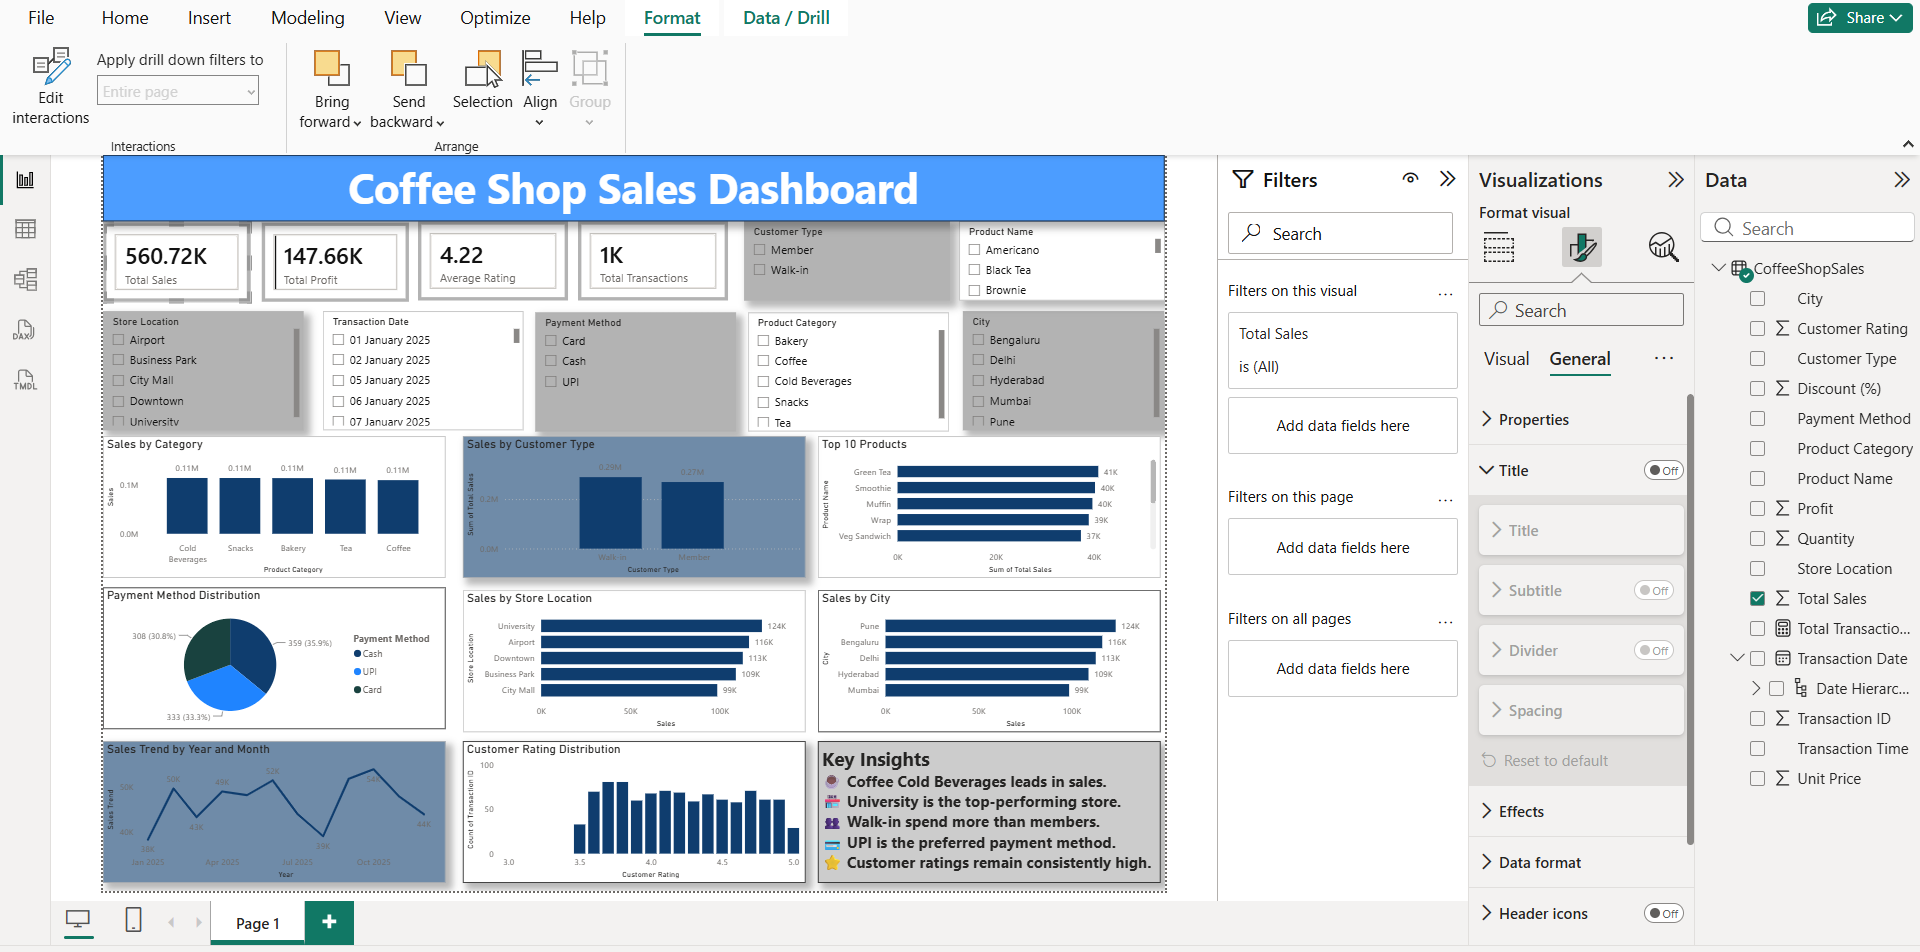

The dashboard page shown, as its layout file describes it:
{"tool":"powerbi","page":{"name":"Page 1","canvas":[1500,1040],"ordinal":0},"visuals":[{"type":"cardVisual","fields":{"Data":["Sum(CoffeeShopSales.Total Sales)"]},"box":[0,96,208,112],"z":0},{"type":"cardVisual","fields":{"Data":["Sum(CoffeeShopSales.Profit)"]},"box":[224,96,208,112],"z":1000},{"type":"cardVisual","fields":{"Data":["Avg(CoffeeShopSales.Customer Rating)"]},"box":[445,93.4,212.3,112.1],"z":2000},{"type":"cardVisual","fields":{"Data":["CoffeeShopSales.Total Transactions"]},"box":[670.9,93.4,212.3,112.1],"z":3000},{"type":"slicer","fields":{"Values":["CoffeeShopSales.City"]},"box":[1216,220.8,283.6,168.1],"z":4000},{"type":"slicer","fields":{"Values":["CoffeeShopSales.Store Location"]},"box":[0,220.8,283,168.1],"z":5000},{"type":"slicer","fields":{"Values":["CoffeeShopSales.Product Category"]},"box":[912,222.5,283.6,168.1],"z":6000},{"type":"slicer","fields":{"Values":["CoffeeShopSales.Customer Type"]},"box":[905.2,93.4,290.4,112.1],"z":7000},{"type":"slicer","fields":{"Values":["CoffeeShopSales.Payment Method"]},"box":[611.4,222.5,283,168.1],"z":8000},{"type":"slicer","fields":{"Values":["CoffeeShopSales.Product Name"]},"box":[1209.2,93.4,290.4,112.1],"z":9000},{"type":"slicer","fields":{"Values":["CoffeeShopSales.Transaction Date"]},"box":[310.8,220.8,283,168.1],"z":10000},{"type":"lineChart","fields":{"Y":["Sum(CoffeeShopSales.Total Sales)"],"Category":["CoffeeShopSales.Transaction Date.Variation.Date Hierarchy.Year","CoffeeShopSales.Transaction Date.Variation.Date Hierarchy.Month"]},"box":[0,829.2,484,200],"z":11000},{"type":"clusteredBarChart","fields":{"Y":["Sum(CoffeeShopSales.Total Sales)"],"Category":["CoffeeShopSales.City"]},"box":[1010.5,614.8,484,200.4],"z":12000},{"type":"clusteredBarChart","fields":{"Category":["CoffeeShopSales.Store Location"],"Y":["Sum(CoffeeShopSales.Total Sales)"]},"box":[507.8,614.8,484,200.4],"z":13000},{"type":"clusteredColumnChart","title":"Sales by Category","fields":{"Category":["CoffeeShopSales.Product Category"],"Y":["Sum(CoffeeShopSales.Total Sales)"]},"box":[0,397.4,484,200],"z":14000},{"type":"clusteredBarChart","title":"Top 10 Products","fields":{"Y":["Sum(CoffeeShopSales.Total Sales)"],"Category":["CoffeeShopSales.Product Name"]},"box":[1010.5,397.4,484,200],"z":15000},{"type":"pieChart","title":"Payment Method Distribution","fields":{"Category":["CoffeeShopSales.Payment Method"],"Y":["CountNonNull(CoffeeShopSales.Transaction ID)"]},"box":[0,611.4,484,200],"z":16000},{"type":"columnChart","title":" Sales by Customer Type","fields":{"Category":["CoffeeShopSales.Customer Type"],"Y":["Sum(CoffeeShopSales.Total Sales)"]},"box":[507.8,397.4,484,200],"z":17000},{"type":"textbox","box":[0,0,1499.7,93.4],"z":18000},{"type":"columnChart","title":"Customer Rating Distribution","fields":{"Category":["CoffeeShopSales.Customer Rating"],"Y":["CountNonNull(CoffeeShopSales.Transaction ID)"]},"box":[508,829,484,200],"z":19000},{"type":"textbox","box":[1011,829,484,200],"z":20000},{"type":"actionButton","box":[0,0,100,40],"z":20001}]}

Visuals, with their boxes on the page's 1500x1040 design canvas (x1, y1, x2, y2). These are canvas units, not pixel positions in the 1920x952 screenshot, which may show the page scaled, cropped or inside an application window:
cardVisual - Sum(CoffeeShopSales.Total Sales): bbox=[0, 96, 208, 208]
cardVisual - Sum(CoffeeShopSales.Profit): bbox=[224, 96, 432, 208]
cardVisual - Avg(CoffeeShopSales.Customer Rating): bbox=[445, 93, 657, 206]
cardVisual - CoffeeShopSales.Total Transactions: bbox=[671, 93, 883, 206]
slicer - CoffeeShopSales.City: bbox=[1216, 221, 1500, 389]
slicer - CoffeeShopSales.Store Location: bbox=[0, 221, 283, 389]
slicer - CoffeeShopSales.Product Category: bbox=[912, 222, 1196, 391]
slicer - CoffeeShopSales.Customer Type: bbox=[905, 93, 1196, 206]
slicer - CoffeeShopSales.Payment Method: bbox=[611, 222, 894, 391]
slicer - CoffeeShopSales.Product Name: bbox=[1209, 93, 1500, 206]
slicer - CoffeeShopSales.Transaction Date: bbox=[311, 221, 594, 389]
lineChart - Sum(CoffeeShopSales.Total Sales) x CoffeeShopSales.Transaction Date.Variation.Date Hierarchy.Year: bbox=[0, 829, 484, 1029]
clusteredBarChart - Sum(CoffeeShopSales.Total Sales) x CoffeeShopSales.City: bbox=[1010, 615, 1494, 815]
clusteredBarChart - CoffeeShopSales.Store Location x Sum(CoffeeShopSales.Total Sales): bbox=[508, 615, 992, 815]
"Sales by Category" clusteredColumnChart: bbox=[0, 397, 484, 597]
"Top 10 Products" clusteredBarChart: bbox=[1010, 397, 1494, 597]
"Payment Method Distribution" pieChart: bbox=[0, 611, 484, 811]
" Sales by Customer Type" columnChart: bbox=[508, 397, 992, 597]
textbox: bbox=[0, 0, 1500, 93]
"Customer Rating Distribution" columnChart: bbox=[508, 829, 992, 1029]
textbox: bbox=[1011, 829, 1495, 1029]
actionButton: bbox=[0, 0, 100, 40]
